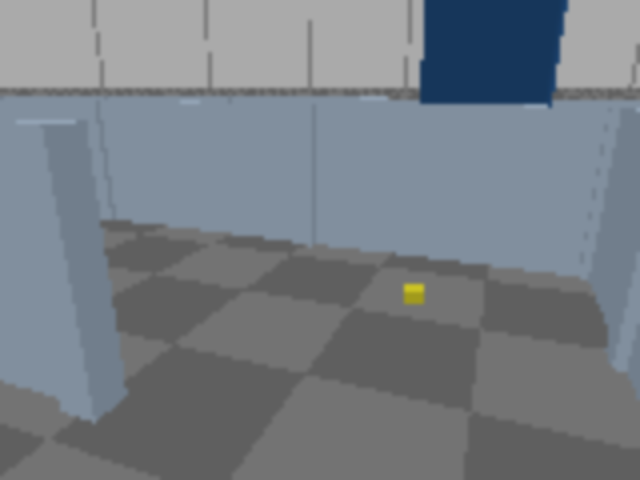puck: (403, 282, 425, 306)
